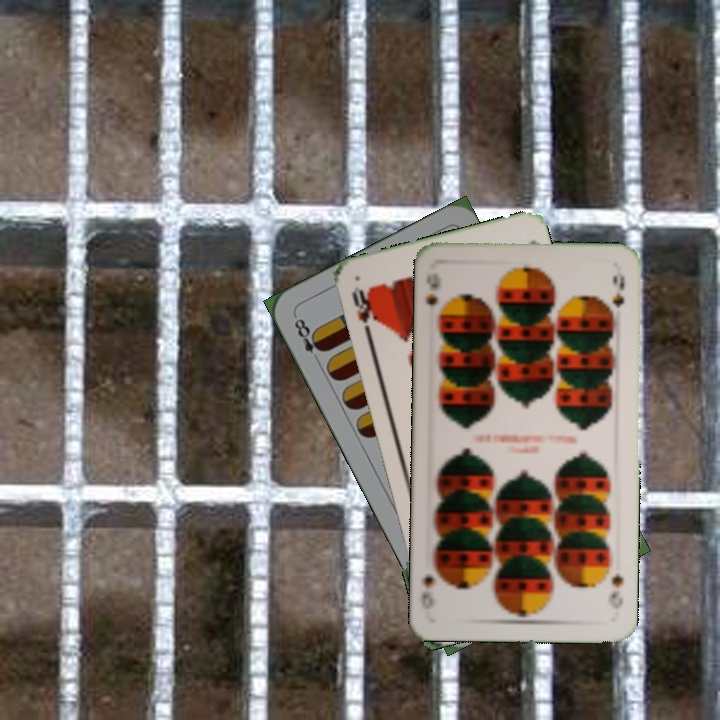E8: (290, 312, 327, 367)
HO: (348, 283, 374, 340)
S9: (422, 268, 447, 324), (604, 569, 625, 612)
